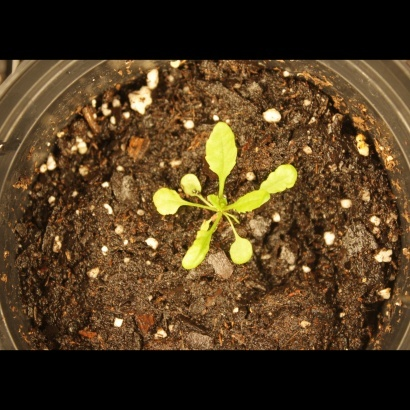leaf: (197, 115, 243, 180), (181, 223, 216, 276), (260, 161, 305, 194), (146, 187, 183, 222), (224, 236, 259, 272), (223, 191, 272, 215), (174, 172, 209, 199), (206, 193, 229, 216)
